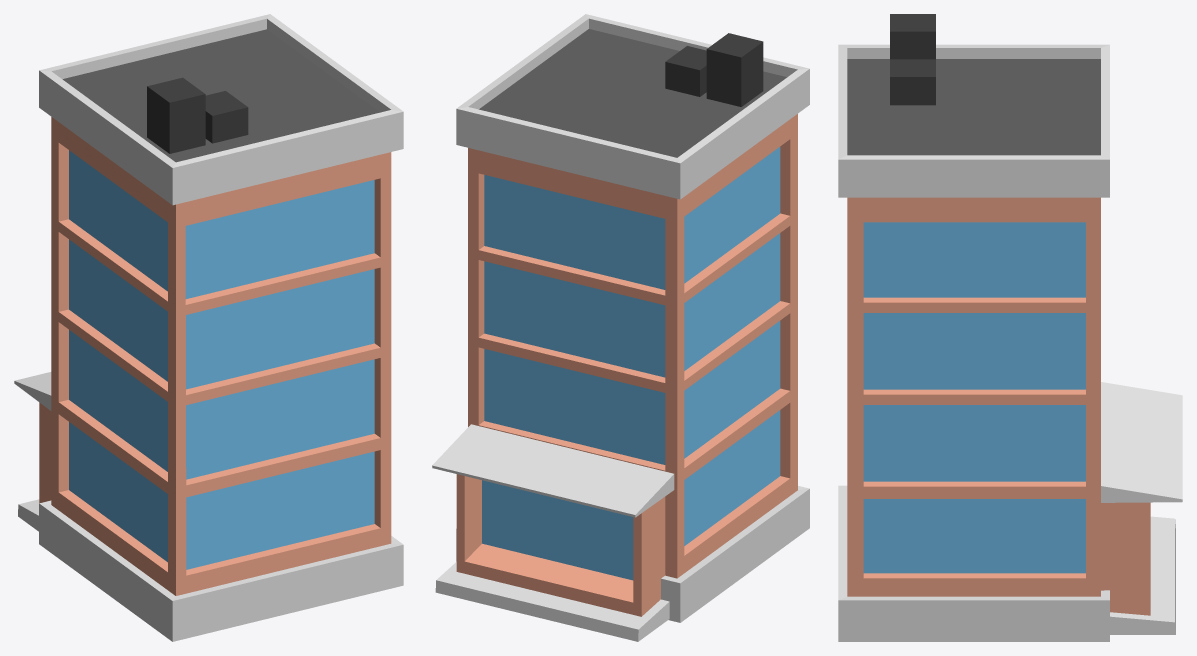
File: house_3_world_ap_0_lev1.glb
3 renders of one model, left to right at view 1: azimuth 30°, elevation 25°; view 2: azimuth 150°, elevation 25°; view 3: azimuth 270°, elevation 25°, orthographic. The views are drawn at different scales.
Parts seen in each view (by area): view 1: house_3_world_ap_0_lev1; view 2: house_3_world_ap_0_lev1; view 3: house_3_world_ap_0_lev1.
Part boxes in pixels (x1,y1,x2,y2): house_3_world_ap_0_lev1: [14, 14, 403, 641]; house_3_world_ap_0_lev1: [432, 14, 809, 641]; house_3_world_ap_0_lev1: [838, 14, 1182, 641].
Bounding box in the file's own units: 2.32 × 4.93 × 2.93.
Materials: 1 (1 with a texture image).
